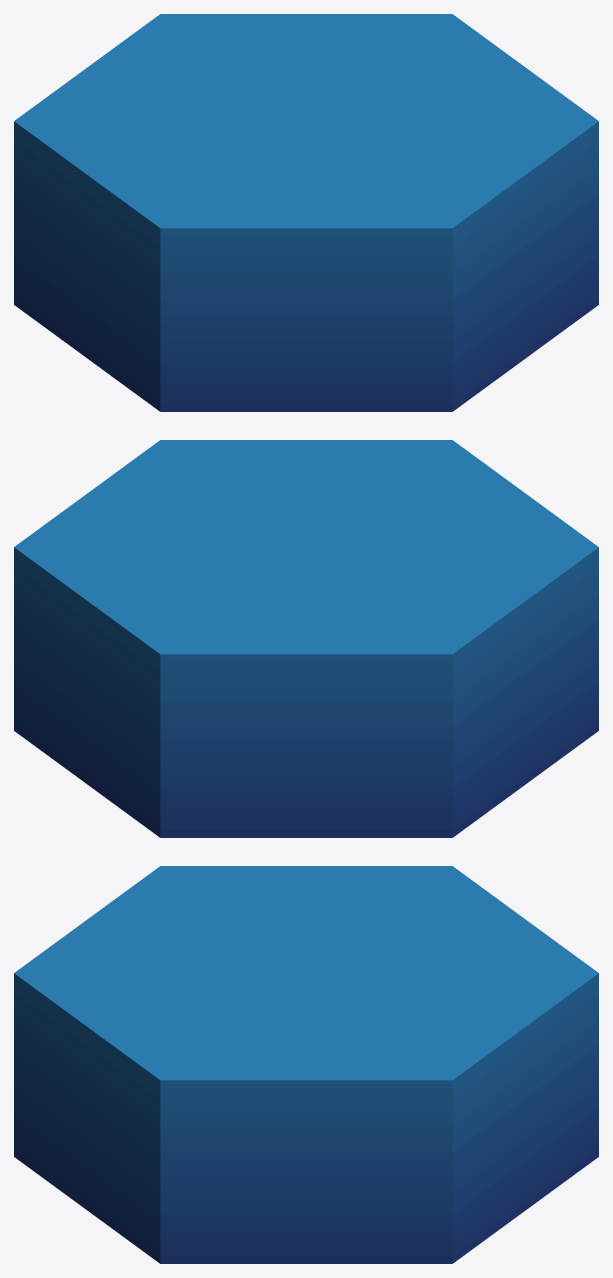
The model's file is kaykit-medieval-hexagon-pack-hex-water.glb.
3 views of the same model, one above another, from view 1: azimuth 30°, elevation 25°; view 2: azimuth 150°, elevation 25°; view 3: azimuth 270°, elevation 25° (orthographic).
Parts seen in each view (by area): view 1: hex_water; view 2: hex_water; view 3: hex_water.
Part boxes in pixels (x1,y1,x2,y2): hex_water: (14,14,598,411); hex_water: (14,440,598,837); hex_water: (14,866,598,1263).
Bounding box in the file's own units: 2 × 0.7999 × 2.31.
Materials: 1 (1 with a texture image).
